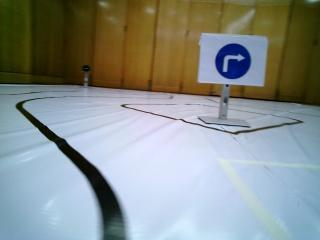right: (204, 38, 260, 84)
